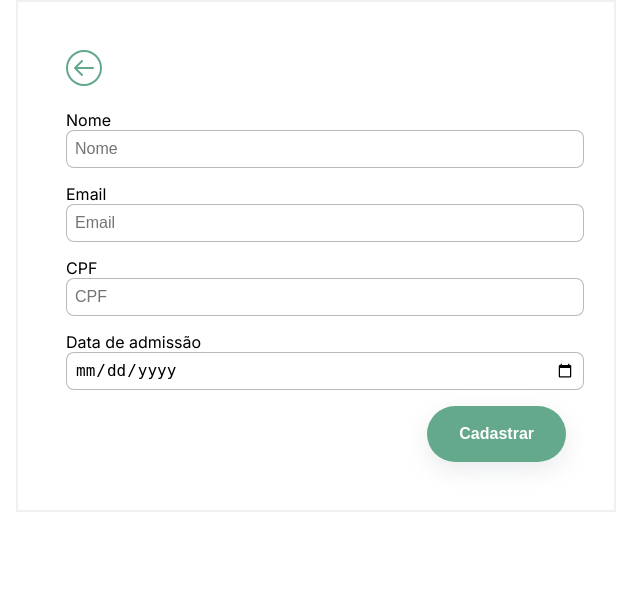
Test: NewUser › Email validation › should show error message when email is invalid
The width and height of the screenshot is (633, 589).
Type "invalid_email" into the field labelled "Email" at {"x": 325, "y": 223}, box [66,204,584,242]
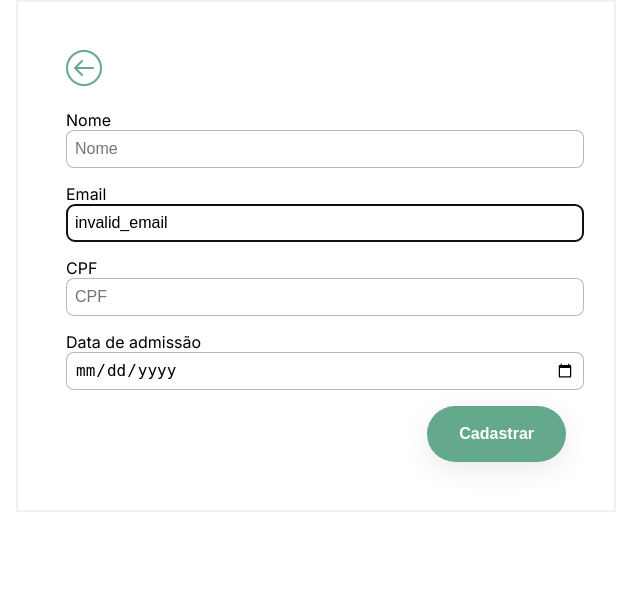
Click the button "Cadastrar" at {"x": 497, "y": 434}, box [427,406,566,462]
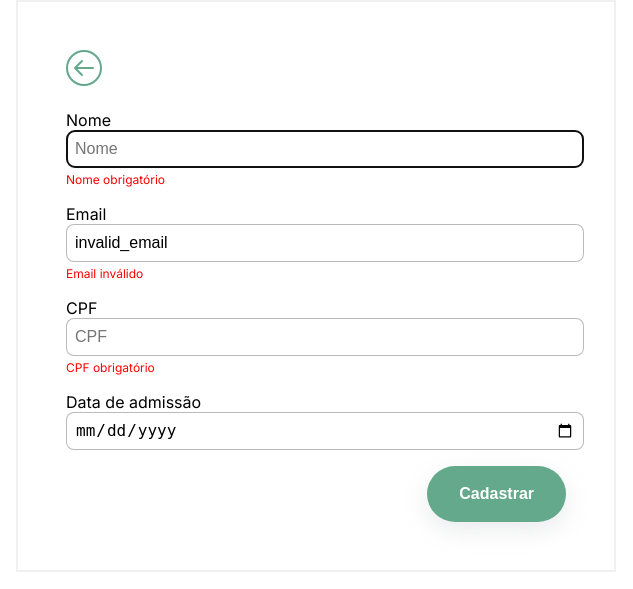
Result: the text "Email inválido" is shown at [66,266,143,281]
